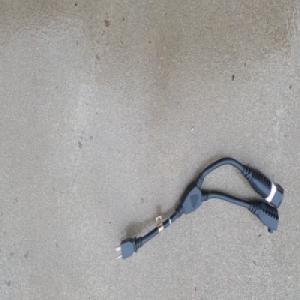Wire: (114, 155, 285, 261)
